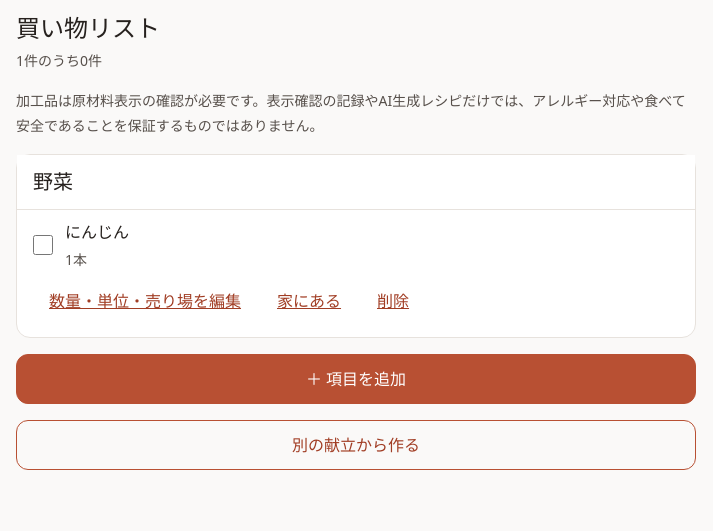
Scenario: ShoppingListPage mutations › reloads after another tab advances the expected list version
Click the checkbox named "購入済みにする".
click(43, 245)  # box [33, 235, 53, 255]
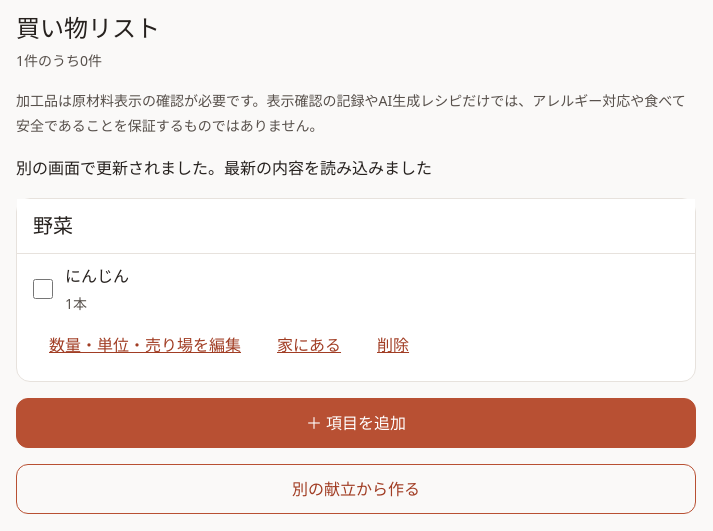
Expected: the message shows "別の画面で更新されました", [16, 157, 432, 179]
